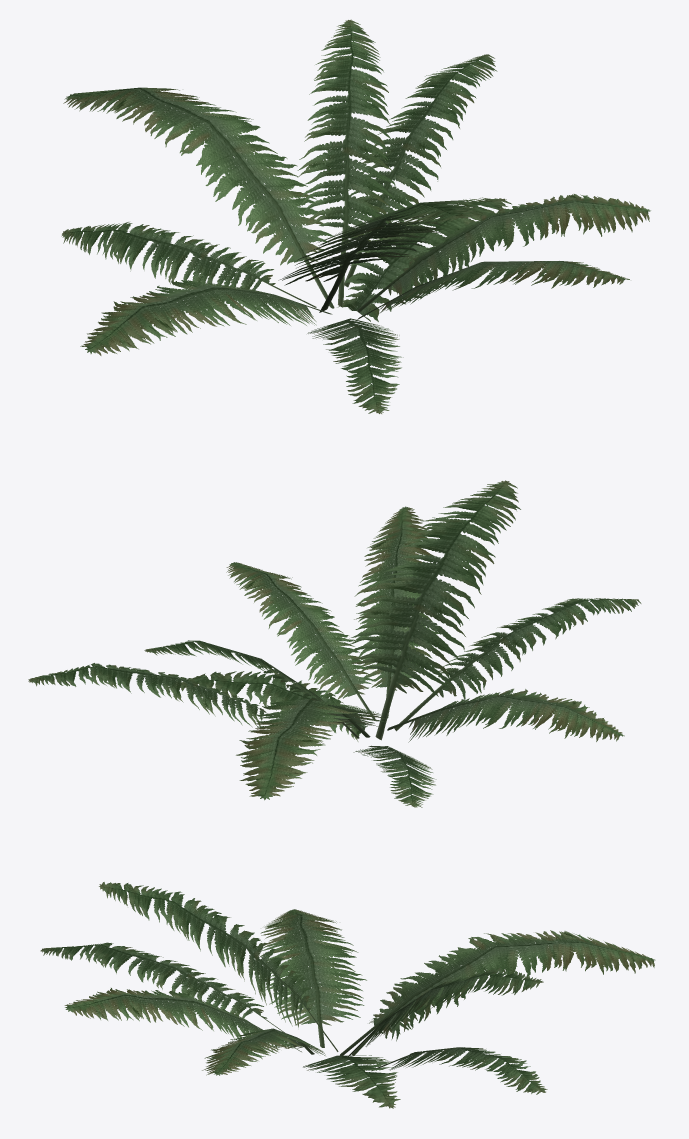
Rendered from SM_Fern_A1.fbx.
3 renders of one model, top to bottom at view 1: azimuth 30°, elevation 25°; view 2: azimuth 150°, elevation 25°; view 3: azimuth 270°, elevation 25°, orthographic. The views are drawn at different scales.
Parts seen in each view (by area): view 1: SM_Fern_A1; view 2: SM_Fern_A1; view 3: SM_Fern_A1.
Boxes of the visible parts, x1,y1,x2,y2 form: SM_Fern_A1: (61, 19, 650, 413); SM_Fern_A1: (28, 480, 641, 807); SM_Fern_A1: (40, 882, 655, 1108).
Size of the model in its own units: 135 by 52.09 by 156.
